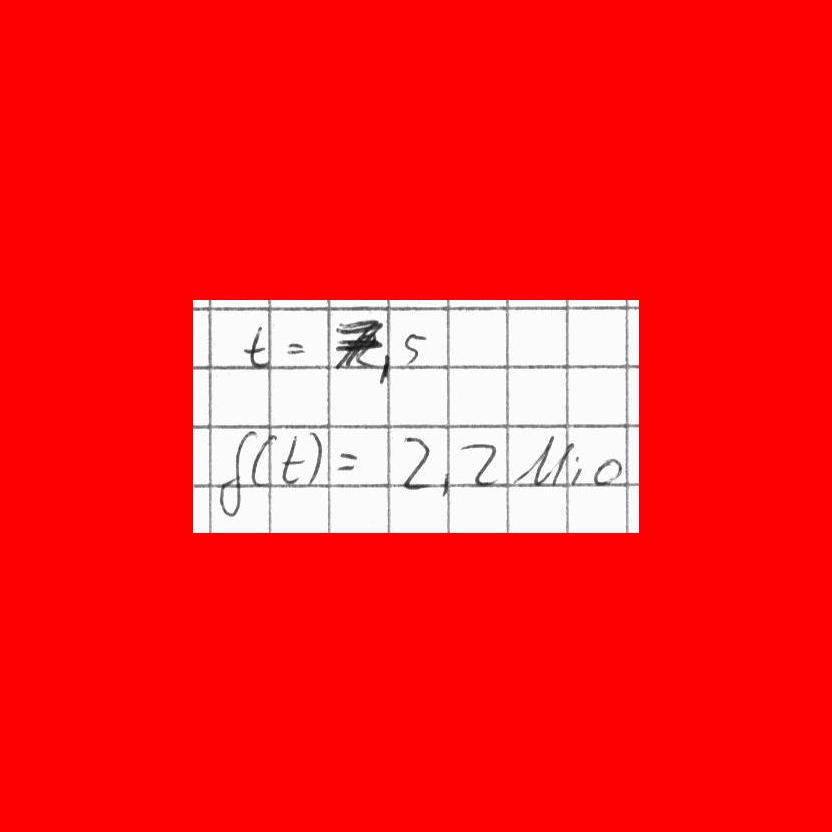Char: (217, 430, 257, 522), (512, 429, 571, 490), (332, 317, 380, 368), (399, 432, 434, 491), (461, 438, 500, 487), (250, 433, 276, 491), (280, 432, 306, 488), (246, 323, 271, 370), (306, 429, 325, 485), (401, 328, 424, 365), (592, 456, 619, 487), (373, 349, 393, 386), (336, 447, 360, 472), (284, 338, 308, 358), (570, 455, 583, 486), (440, 468, 452, 497)
